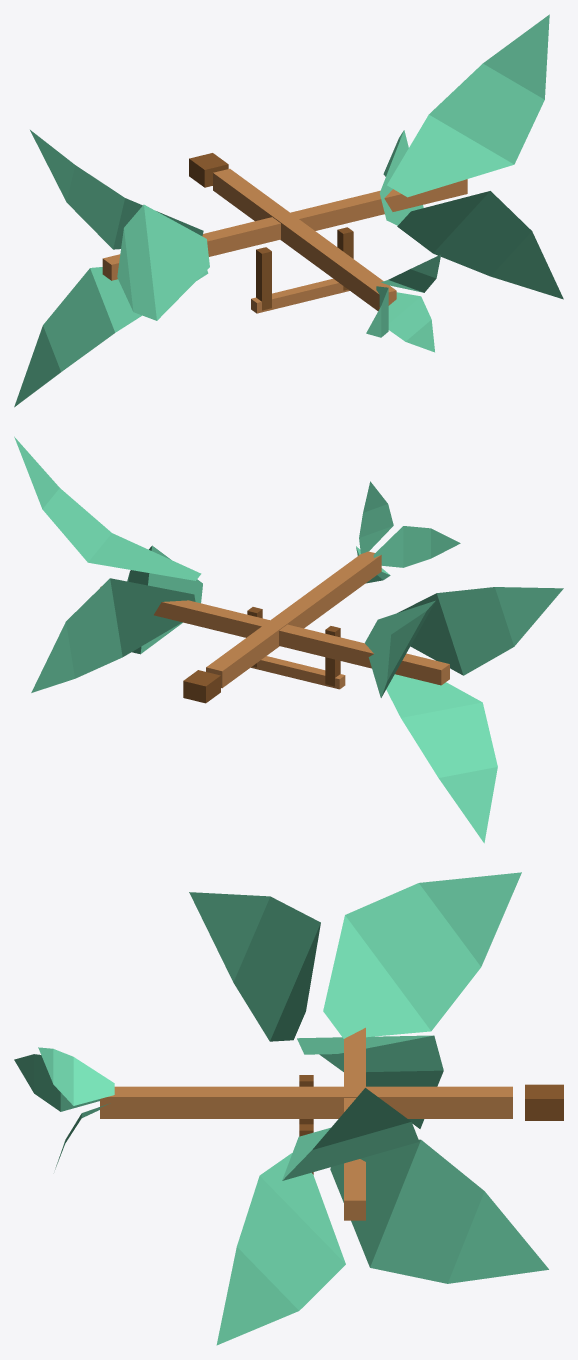
File: leaf-glider.glb
The picture shows the model from 3 angles, top to bottom: view 1: azimuth 30°, elevation 25°; view 2: azimuth 150°, elevation 25°; view 3: azimuth 270°, elevation 25°; orthographic projection. The views are drawn at different scales.
Visible parts, largest first — view 1: plant_bushTriangle (×3), spar, crossbar, hang-bar, upright-l, nose; view 2: plant_bushTriangle (×3), crossbar, spar, hang-bar, nose, upright-l; view 3: plant_bushTriangle (×3), spar, crossbar, nose.
Part boxes in pixels (x1=…): plant_bushTriangle (×3): x1=14, y1=14, x2=563, y2=407; spar: x1=213, y1=168, x2=396, y2=310; crossbar: x1=102, y1=179, x2=467, y2=280; hang-bar: x1=251, y1=278, x2=349, y2=313; upright-l: x1=256, y1=247, x2=271, y2=310; nose: x1=189, y1=153, x2=228, y2=187; plant_bushTriangle (×3): x1=14, y1=436, x2=563, y2=843; crossbar: x1=100, y1=586, x2=449, y2=685; spar: x1=206, y1=551, x2=381, y2=688; hang-bar: x1=251, y1=656, x2=345, y2=689; nose: x1=183, y1=670, x2=220, y2=703; upright-l: x1=325, y1=626, x2=340, y2=686; plant_bushTriangle (×3): x1=14, y1=872, x2=548, y2=1345; spar: x1=100, y1=1086, x2=512, y2=1118; crossbar: x1=344, y1=1027, x2=365, y2=1220; nose: x1=525, y1=1084, x2=563, y2=1120.
Size of the model in its own units: 1.51 by 0.8009 by 1.13.
